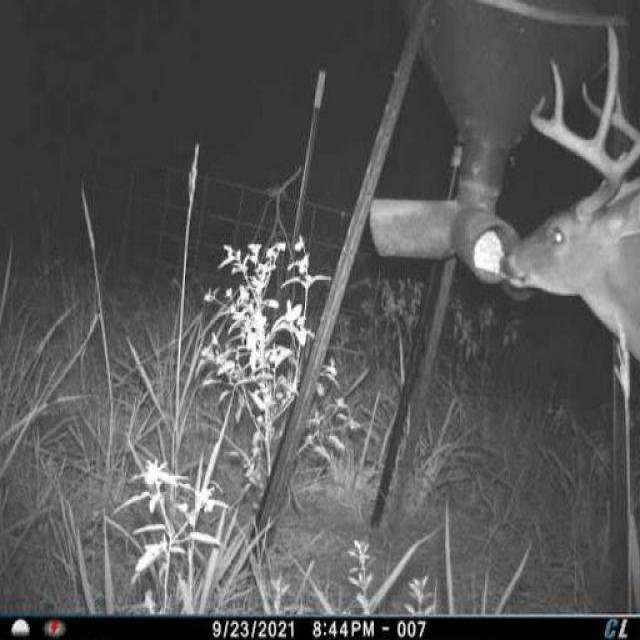deer: (496, 21, 640, 374)
